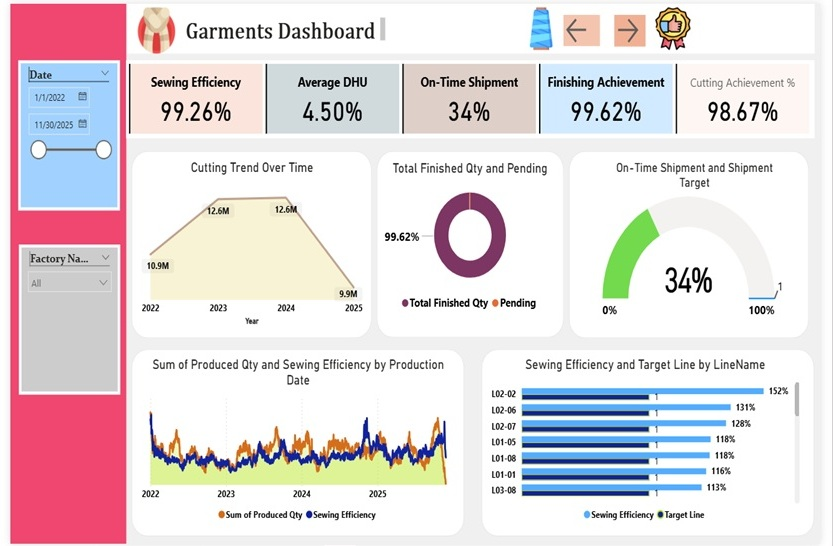

Layout of this report page (visuals, bound fields, positions):
{"tool":"powerbi","page":{"name":"Garments Dashboard","canvas":[1280,720],"ordinal":1},"visuals":[{"type":"shape","box":[0,0,183.2,719.9],"z":0},{"type":"shape","box":[183.4,0,1087,66.4],"z":1000},{"type":"textbox","box":[271.4,13.3,325.7,43.4],"z":2000},{"type":"cardVisual","fields":{"Data":["@Measure Garments ..Sewing Efficiency %","@Measure Garments ..DHU","@Measure Garments ..On-Time Shipment %","@Measure Garments ..Finishing Achieve %","@Measure Garments ..Cutting Achievement %"]},"box":[183.2,75,1087.8,103.9],"z":3000},{"type":"shape","box":[191.9,196.2,379.4,249.6],"z":4000},{"type":"shape","box":[883.1,196.6,379,249.7],"z":5000},{"type":"shape","box":[191.8,460.9,526,249.7],"z":6000},{"type":"shape","box":[744.4,460.9,526,249.7],"z":7000},{"type":"image","box":[1007.4,0,79.6,66.4],"z":8000},{"type":"actionButton","title":"Go To Next Page","box":[954.3,14.5,49.5,42.2],"z":9000},{"type":"shape","box":[579.1,196.6,295.6,249],"z":10000},{"type":"image","box":[1087,0,60.3,66.4],"z":11000},{"type":"actionButton","box":[874.3,14.4,57.7,41.8],"z":12000},{"type":"image","box":[802.2,0,70,64],"z":13000},{"type":"lineChart","fields":{"Y":["Sum(fact_cutting_daily.Cut Qty)"],"Category":["dim_date.Day","dim_date.Month","dim_date.Year","dim_date.Month Name","dim_date.Day Name"]},"box":[202,207.8,359.2,226.5],"z":14000},{"type":"clusteredBarChart","title":"Sewing Efficiency vs Target Line by LineName","fields":{"Category":["dim_line.LineName"],"Y":["@Measure Garments ..Sewing Efficiency","@Measure Garments ..Target Line"]},"box":[754,470.5,498.3,229.2],"z":15000},{"type":"areaChart","title":" Produced Qty vs Sewing Efficiency ","fields":{"Category":["fact_production_daily.Production Date"],"Y":["Sum(fact_production_daily.Produced Qty)"],"Y2":["@Measure Garments ..Sewing Efficiency"]},"box":[202,470.3,505,229.4],"z":16000},{"type":"donutChart","title":"Total Finished and Pending Qty","fields":{"Y":["@Measure Garments ..Total Finished Qty","@Measure Garments ..Balance To Finish"]},"box":[584,208.6,285.2,209.9],"z":17000},{"type":"slicer","fields":{"Values":["dim_date.Date"]},"box":[12.1,74.8,160.5,200],"z":18000},{"type":"slicer","fields":{"Values":["dim_factory.Factory Name"]},"box":[13.6,321,160,200],"z":19000},{"type":"gauge","fields":{"Y":["@Measure Garments ..On-Time Shipment"],"TargetValue":["@Measure Garments ..Shipment Target"]},"box":[930.8,208.2,300.8,226],"z":20000},{"type":"image","box":[191.3,0,80.4,66.3],"z":21000}]}

Visuals, with their boxes on the page's 1280x720 design canvas (x1, y1, x2, y2). These are canvas units, not pixel positions in the 833x546 screenshot, which may show the page scaled, cropped or inside an application window:
shape: locate(0, 0, 183, 720)
shape: locate(183, 0, 1270, 66)
textbox: locate(271, 13, 597, 57)
cardVisual - @Measure Garments ..Sewing Efficiency % x @Measure Garments ..DHU: locate(183, 75, 1271, 179)
shape: locate(192, 196, 571, 446)
shape: locate(883, 197, 1262, 446)
shape: locate(192, 461, 718, 711)
shape: locate(744, 461, 1270, 711)
image: locate(1007, 0, 1087, 66)
"Go To Next Page" actionButton: locate(954, 14, 1004, 57)
shape: locate(579, 197, 875, 446)
image: locate(1087, 0, 1147, 66)
actionButton: locate(874, 14, 932, 56)
image: locate(802, 0, 872, 64)
lineChart - Sum(fact_cutting_daily.Cut Qty) x dim_date.Day: locate(202, 208, 561, 434)
"Sewing Efficiency vs Target Line by LineName" clusteredBarChart: locate(754, 470, 1252, 700)
" Produced Qty vs Sewing Efficiency " areaChart: locate(202, 470, 707, 700)
"Total Finished and Pending Qty" donutChart: locate(584, 209, 869, 418)
slicer - dim_date.Date: locate(12, 75, 173, 275)
slicer - dim_factory.Factory Name: locate(14, 321, 174, 521)
gauge - @Measure Garments ..On-Time Shipment x @Measure Garments ..Shipment Target: locate(931, 208, 1232, 434)
image: locate(191, 0, 272, 66)
